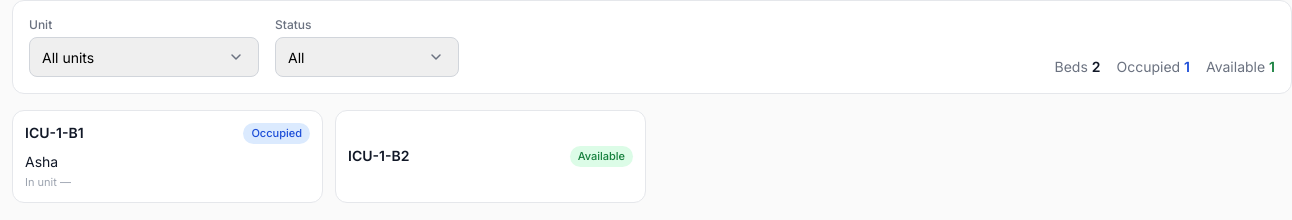
Test case: IcuBedBoard › filters the grid by bed status
The width and height of the screenshot is (1292, 220).
Expected: the text "ICU-1-B1" is shown, [25,123,84,143]
Select "Available" in the dropdown labelled "Status". click: (367, 57)
box: [275,37,459,77]
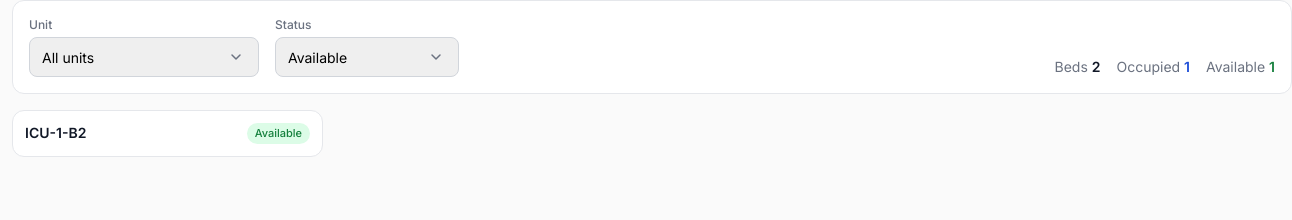
Expected: the text "ICU-1-B2" is shown, [25,123,86,143]
Expected: the button "ICU-1-B1" is gone
